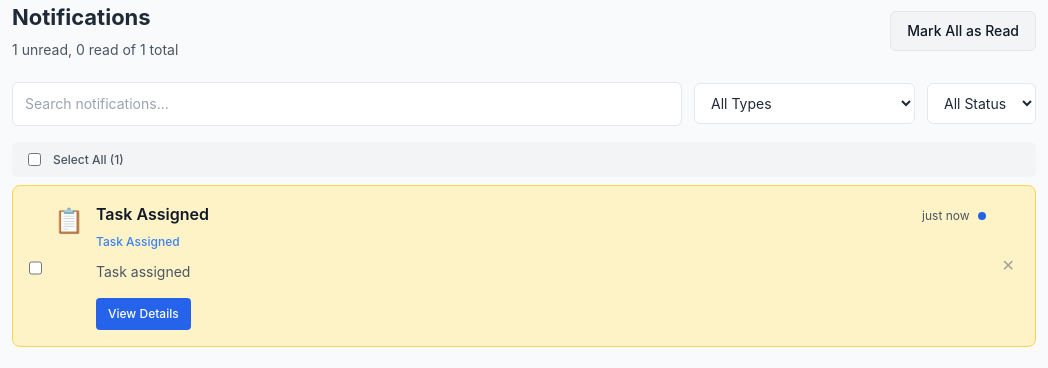
NotificationsView › shows clear filters button when search is active
The width and height of the screenshot is (1048, 368).
In the field with placeholder "Search notifications...": (347, 104) [12,82,682,126], type "test"
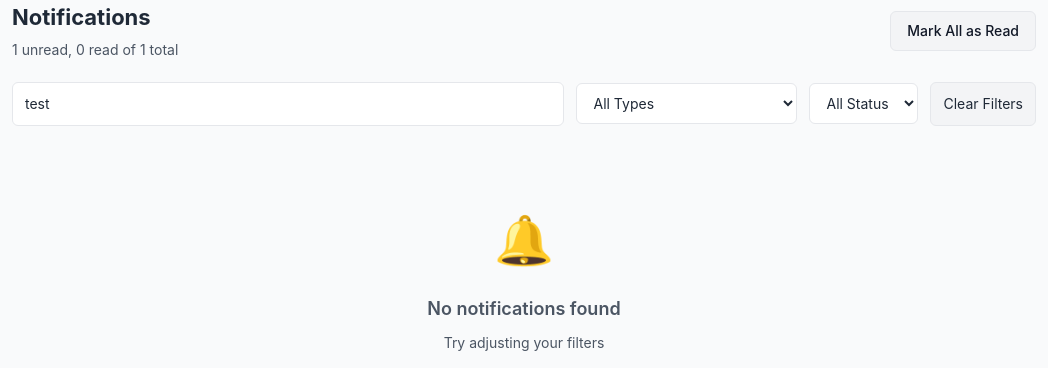
Result: the button "Clear Filters" is shown at [930,82,1036,126]
